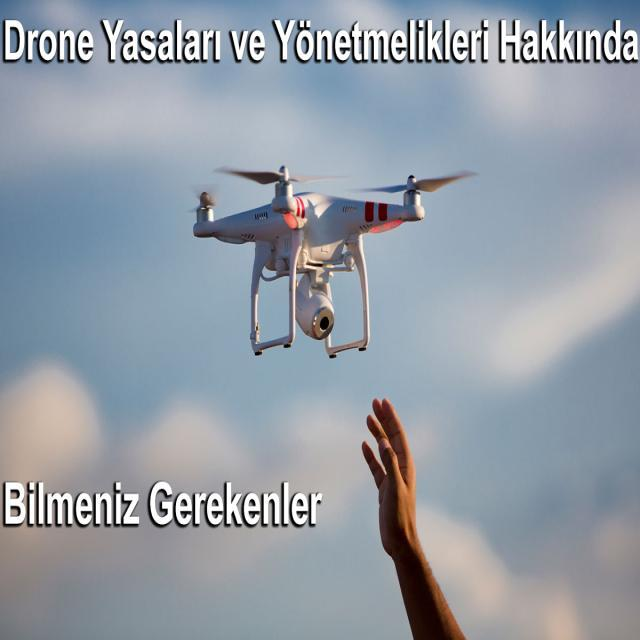drone: (174, 151, 471, 304)
